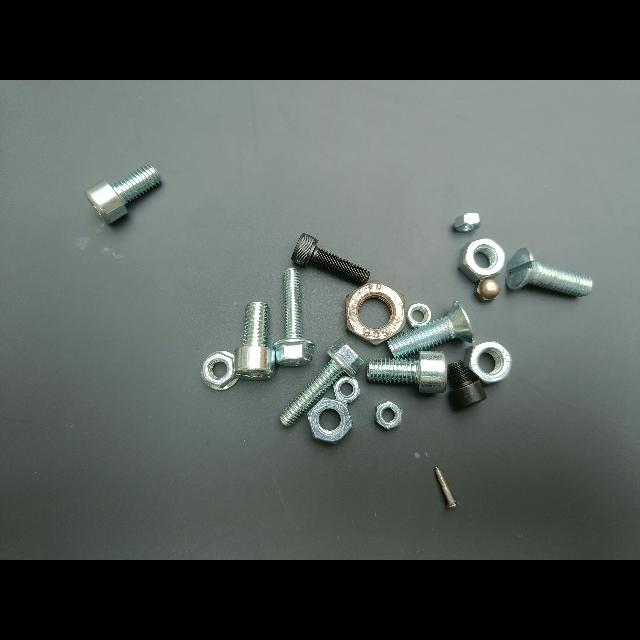bolt: (280, 339, 364, 427), (387, 301, 474, 358), (85, 165, 161, 224), (505, 248, 593, 297), (292, 233, 370, 286), (273, 268, 314, 366), (366, 351, 448, 393), (233, 302, 276, 380), (447, 360, 486, 409), (434, 467, 459, 508)
nuts: (346, 281, 406, 345), (307, 397, 352, 443), (458, 238, 505, 282), (464, 341, 512, 384), (201, 351, 239, 390), (375, 401, 402, 430), (334, 377, 360, 404), (473, 277, 500, 302), (406, 303, 431, 328), (452, 212, 480, 233)
